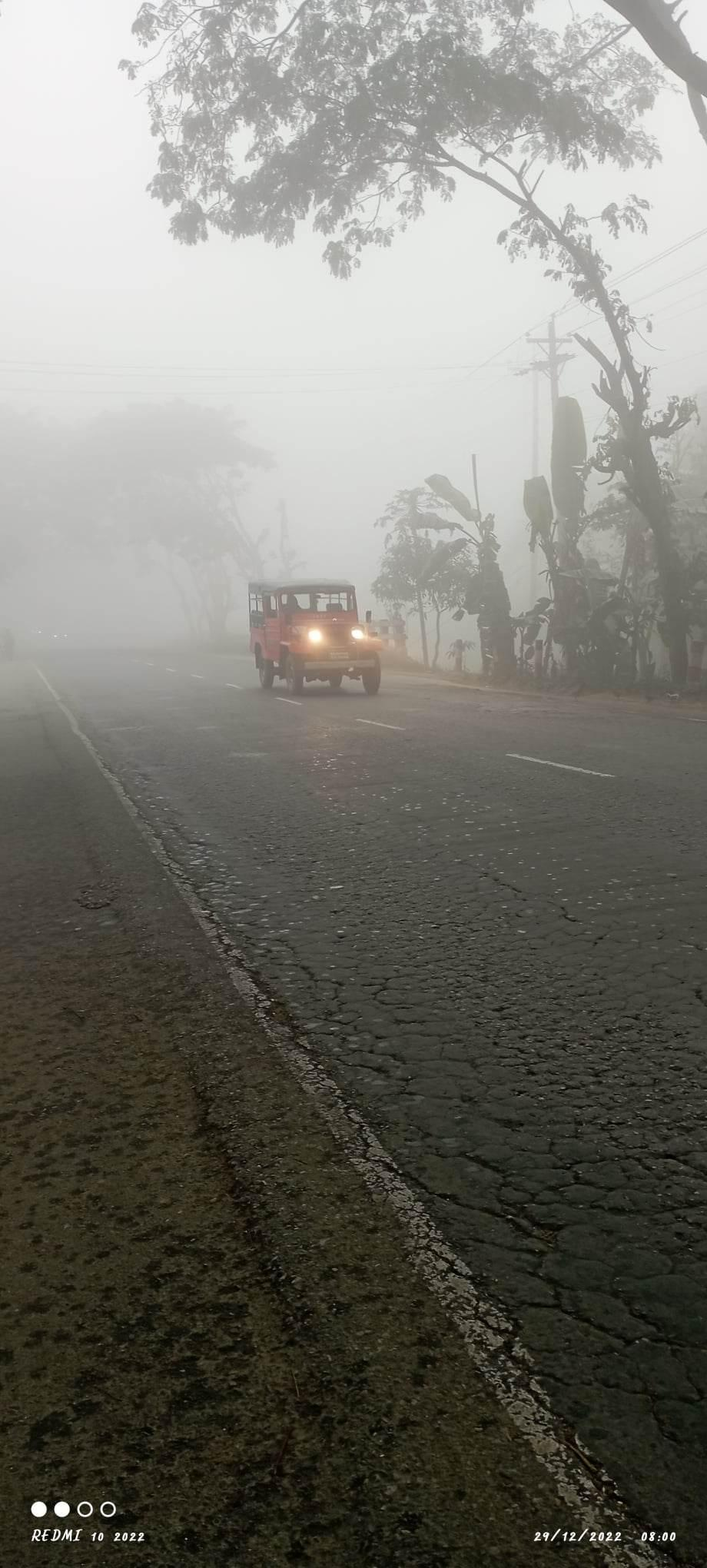Car: (222, 556, 405, 728)
